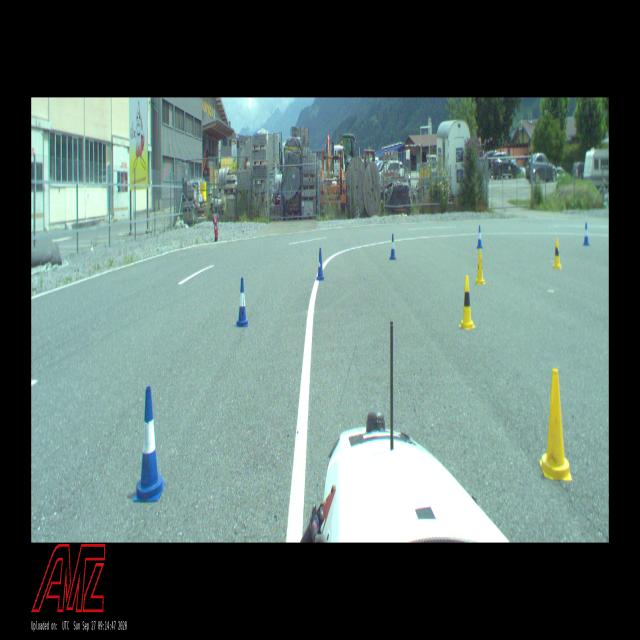blue_cone: (134, 386, 166, 502), (237, 278, 248, 327), (316, 248, 324, 280), (390, 234, 396, 259), (584, 222, 590, 245), (477, 226, 482, 248)
yellow_cone: (539, 368, 572, 481), (459, 276, 476, 328), (475, 248, 485, 284), (553, 238, 562, 268)
